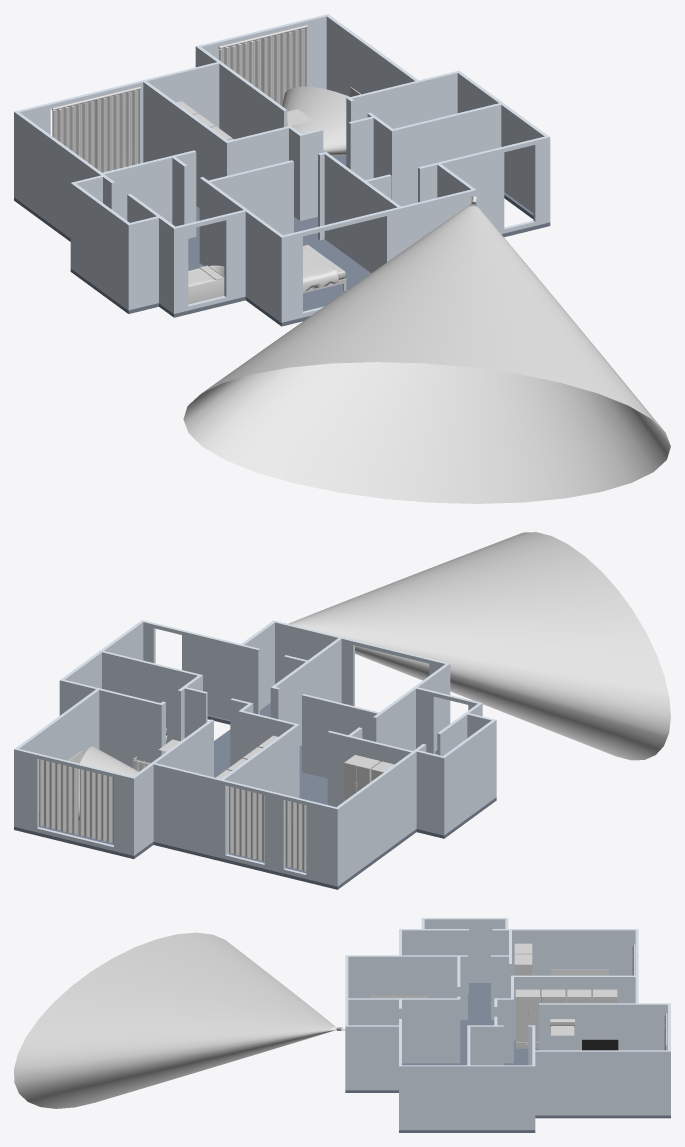
3 renders of one model, top to bottom at view 1: azimuth 30°, elevation 25°; view 2: azimuth 150°, elevation 25°; view 3: azimuth 270°, elevation 25°, orthographic. The views are drawn at different scales.
Parts seen in each view (by area): view 1: wall, visualcone1, floor, curtain02, others, visualcone2, curtain02.001, curtain01, curtain01.001; view 2: wall, visualcone1, floor, curtain02.001, curtain02, curtain01.001, others, curtain01, visualcone2; view 3: wall, visualcone1, others, floor, TV.
Boxes of the visible parts, x1=… form: wall: x1=14, y1=14, x2=550, y2=322; visualcone1: x1=183, y1=203, x2=670, y2=503; floor: x1=14, y1=156, x2=550, y2=326; curtain02: x1=96, y1=89, x2=139, y2=172; others: x1=176, y1=87, x2=360, y2=304; visualcone2: x1=282, y1=86, x2=349, y2=155; curtain02.001: x1=263, y1=28, x2=306, y2=105; curtain01: x1=52, y1=100, x2=96, y2=167; curtain01.001: x1=219, y1=38, x2=262, y2=91; wall: x1=14, y1=620, x2=496, y2=886; visualcone1: x1=288, y1=532, x2=670, y2=760; floor: x1=14, y1=703, x2=496, y2=889; curtain02.001: x1=39, y1=759, x2=78, y2=834; curtain02: x1=229, y1=786, x2=264, y2=861; curtain01.001: x1=79, y1=769, x2=113, y2=843; others: x1=68, y1=735, x2=394, y2=800; curtain01: x1=285, y1=800, x2=306, y2=871; visualcone2: x1=78, y1=746, x2=138, y2=821; wall: x1=345, y1=918, x2=670, y2=1129; visualcone1: x1=14, y1=932, x2=336, y2=1108; others: x1=370, y1=943, x2=617, y2=1048; floor: x1=345, y1=983, x2=670, y2=1132; TV: x1=581, y1=1039, x2=618, y2=1050.
Size of the model in its own units: 13.5 by 4.53 by 21.64.
